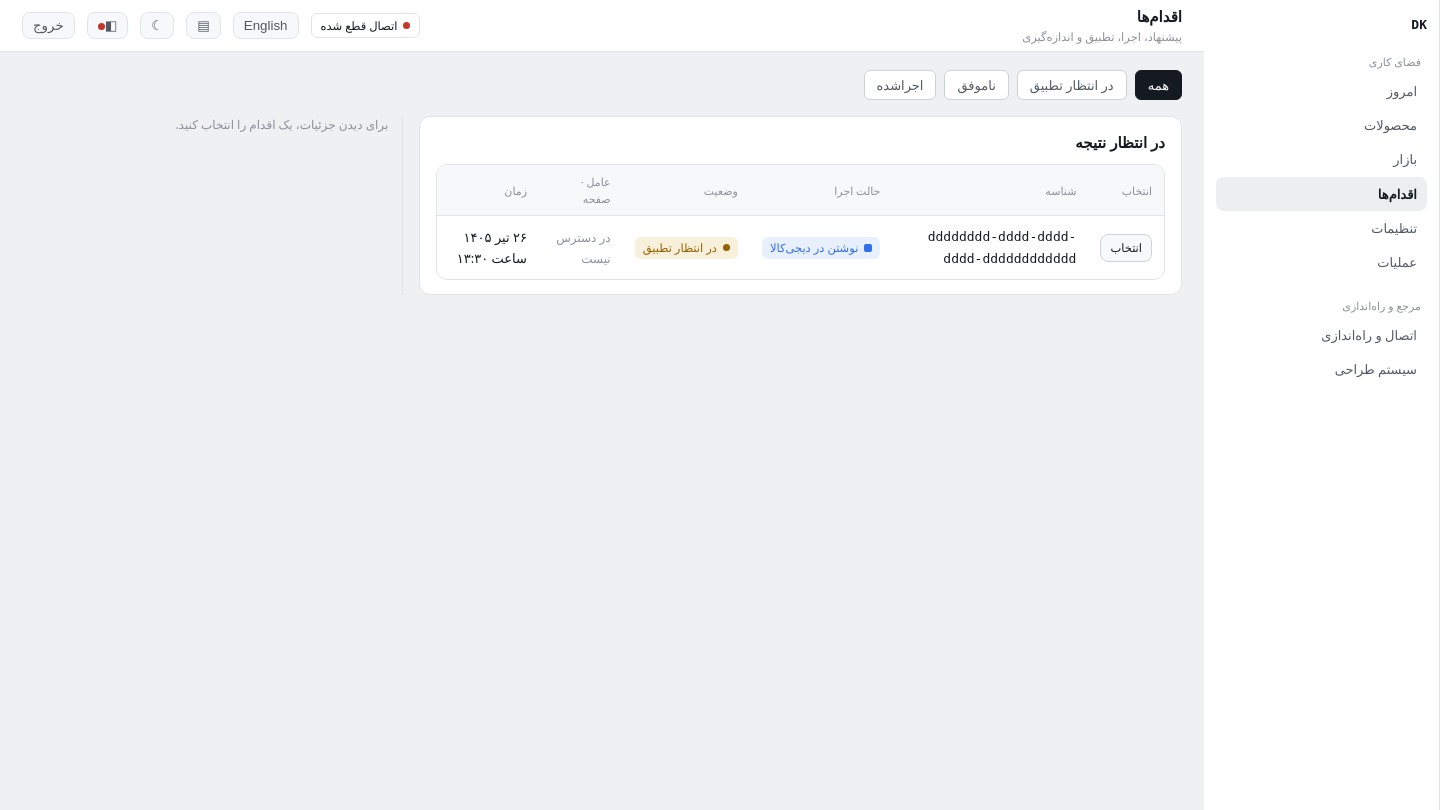
Actions — write-mode result handling (EXE-003) › explains Pending Reconciliation and offers NO retry for an unreconciled action
This screenshot has width=1440, height=810.
Click the button "انتخاب": click(1126, 248) [1100, 234, 1152, 262]
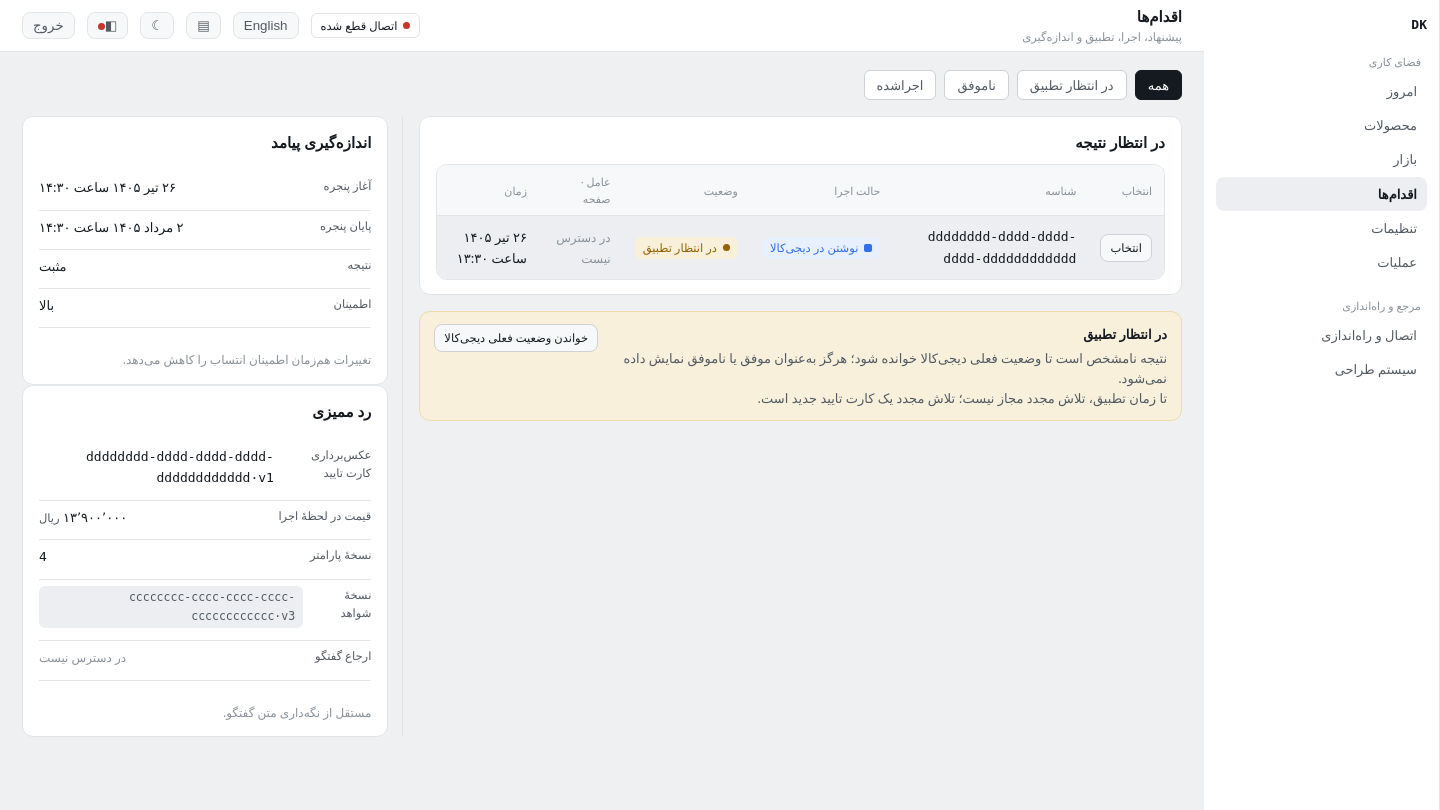
expect the message with test id "action-pending-reconciliation" shows "در انتظار تطبیق": met, box [1083, 325, 1167, 343]
expect the button with test id "action-reconcile-read" is shown: met, box [434, 324, 598, 352]
